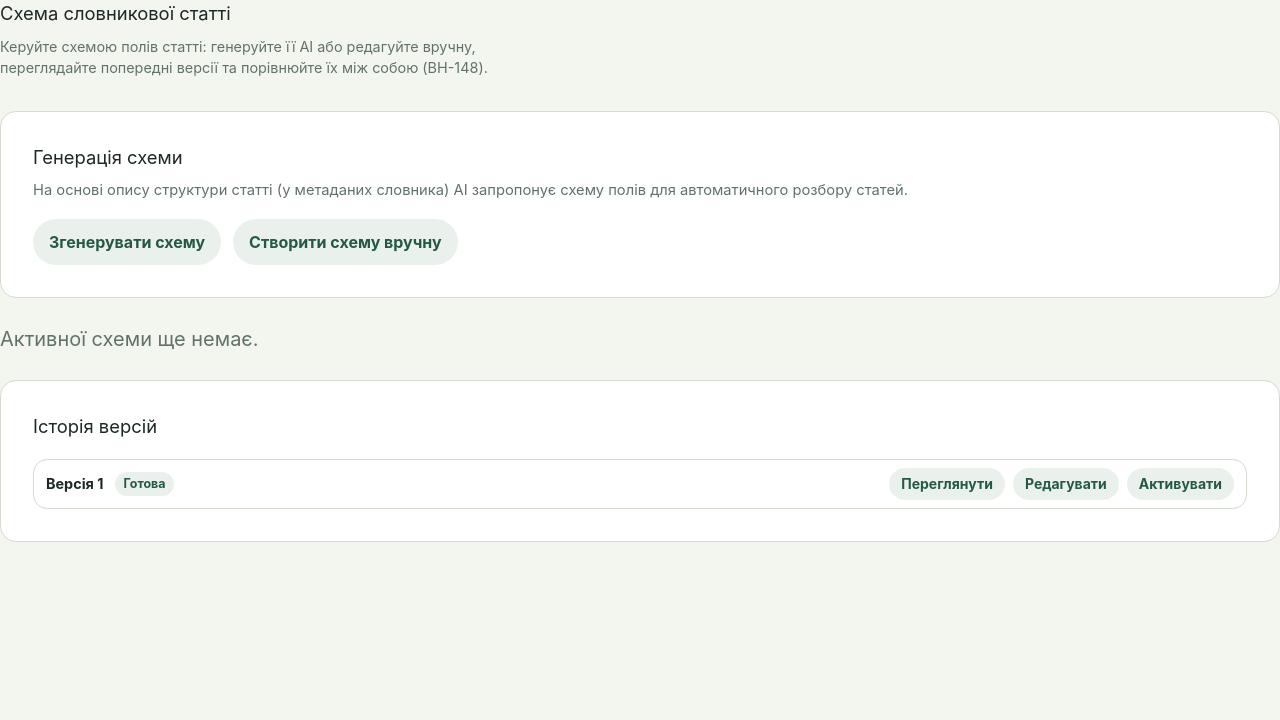
Test: ArticleSchemaPage › shows a past version's field tree in the viewer
This screenshot has width=1280, height=720.
Click the button "Переглянути": (947, 484) 889,468 -> 1005,500
(page scrolled)
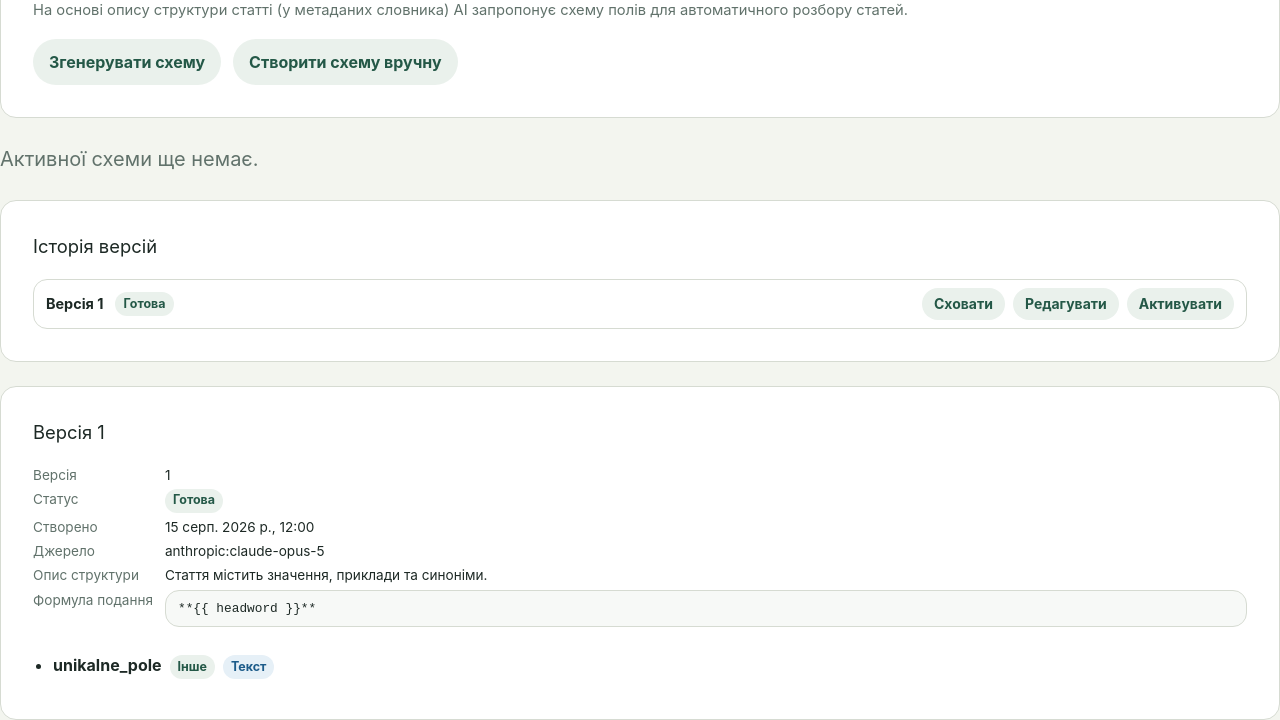
Expected: the heading "Версія 1" is shown, 33,422 -> 105,444
Expected: the text "unikalne_pole" is shown, 53,654 -> 162,674
